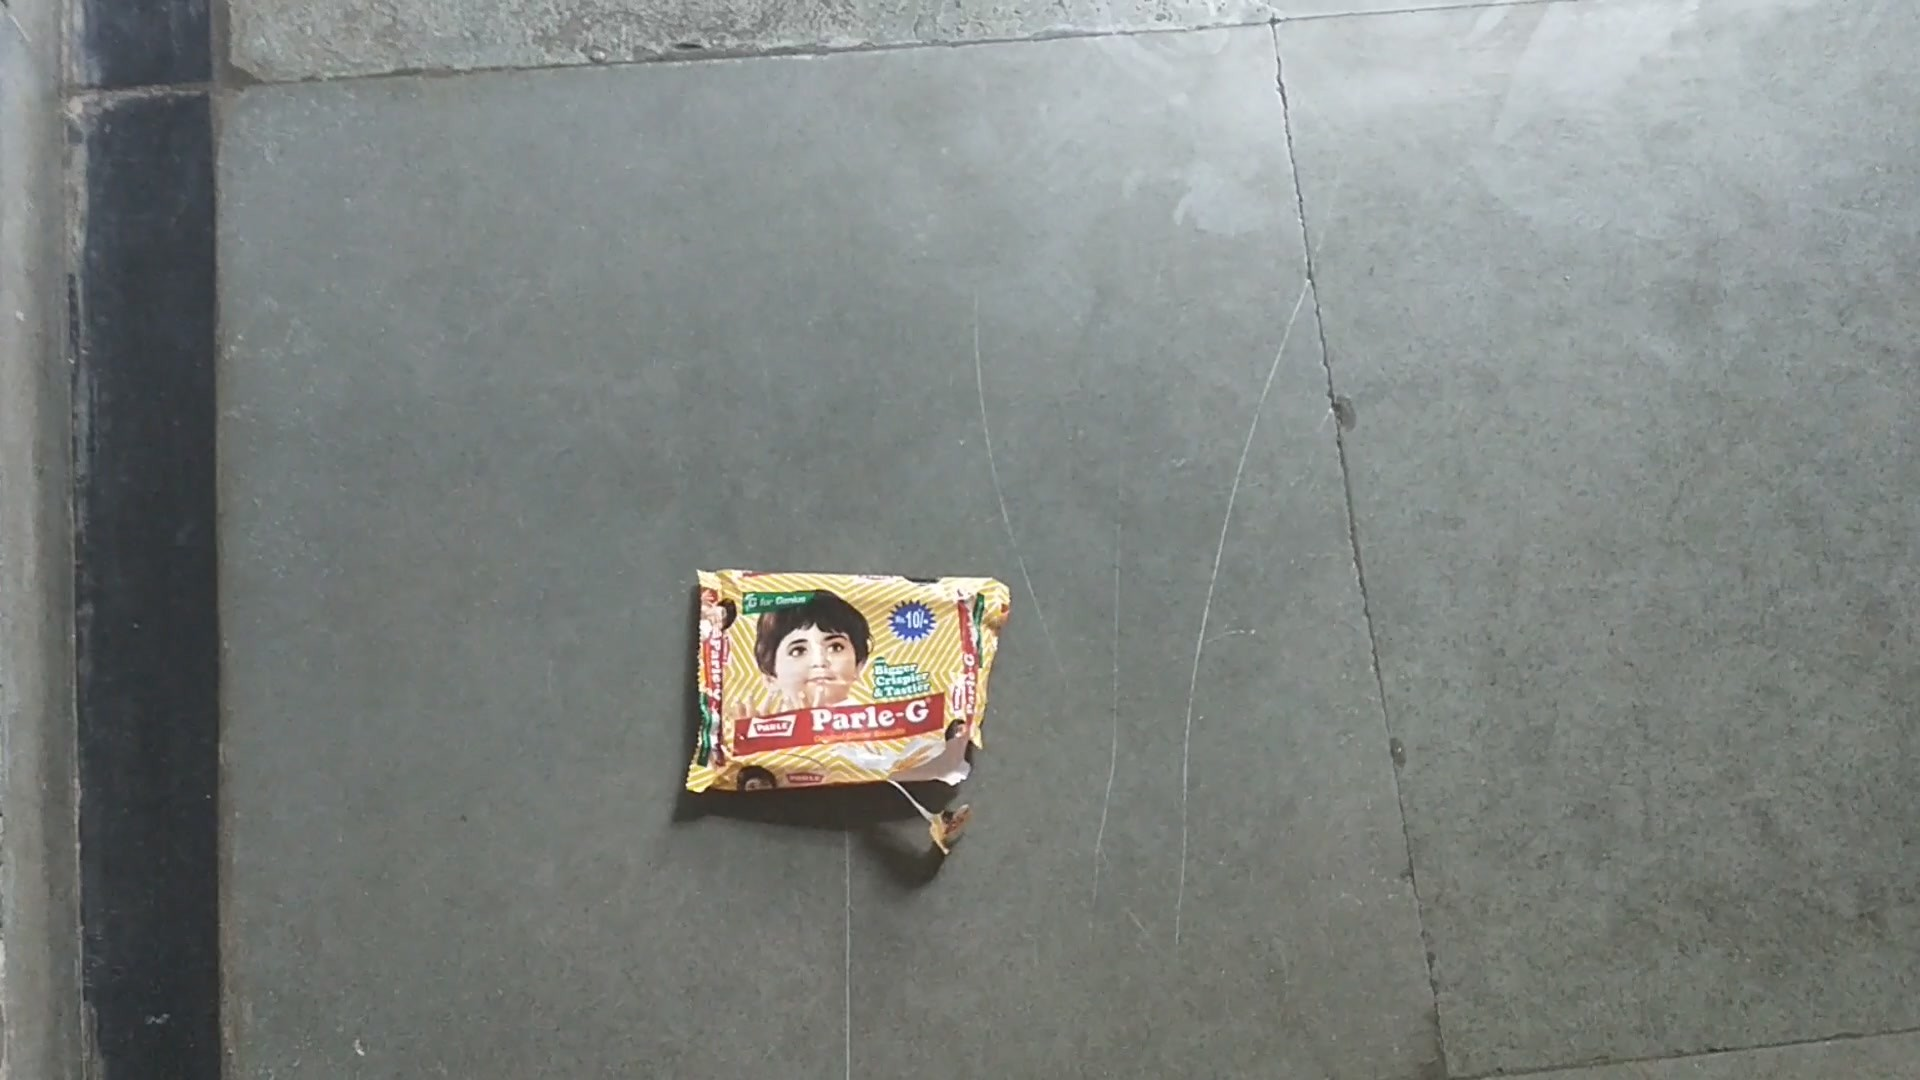parle-g: (702, 574, 965, 783)
